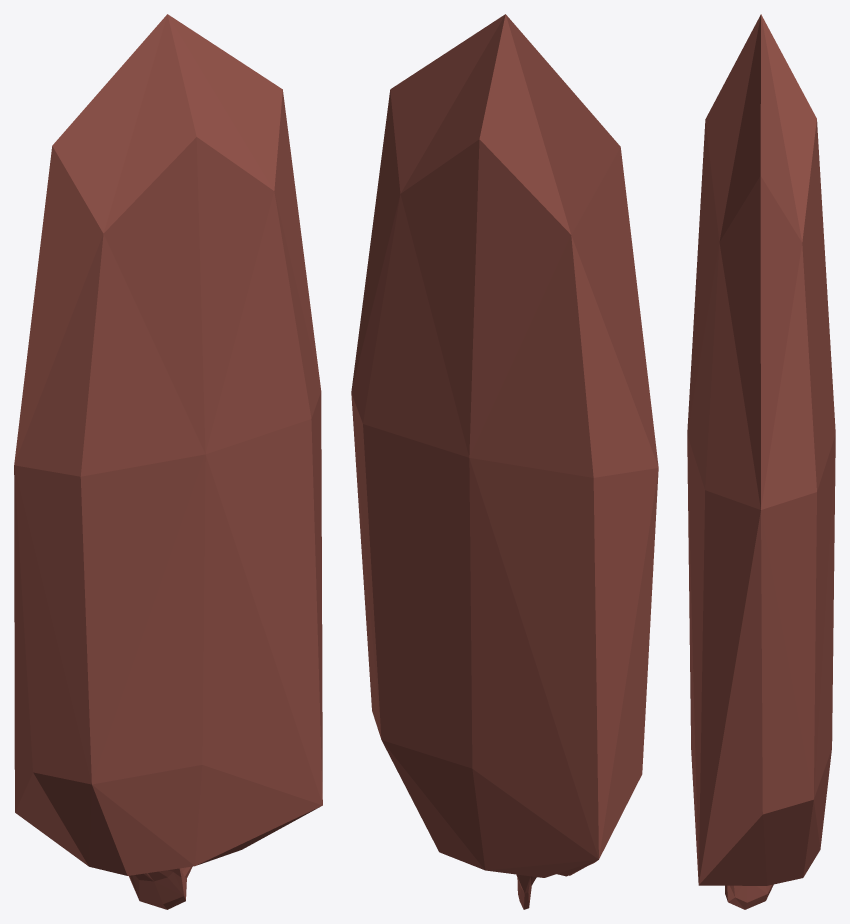
3 views of the same model, side by side, from view 1: azimuth 30°, elevation 25°; view 2: azimuth 150°, elevation 25°; view 3: azimuth 270°, elevation 25° (orthographic).
Visible parts, largest first — view 1: 507_Cube.2050; view 2: 507_Cube.2050; view 3: 507_Cube.2050.
Part boxes in pixels (x1=…): 507_Cube.2050: x1=14, y1=14, x2=322, y2=909; 507_Cube.2050: x1=351, y1=14, x2=658, y2=909; 507_Cube.2050: x1=687, y1=14, x2=835, y2=909.
Bounding box in the file's own units: 4.71 × 13.04 × 1.95.
